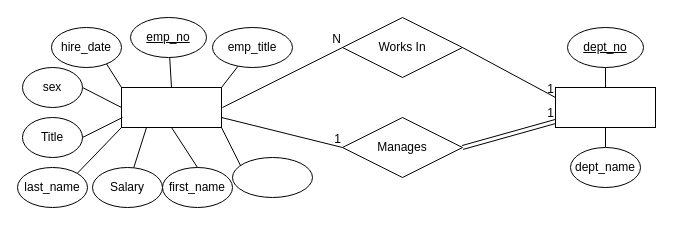
Image size: 673x225. Some labels were removed from this diagram. Here are the shapes that lost their labels. From the top down, the centre of each, then its label:
At (171,107): "Employee".
At (605,107): "Department".
At (272,177): "birthdate".
